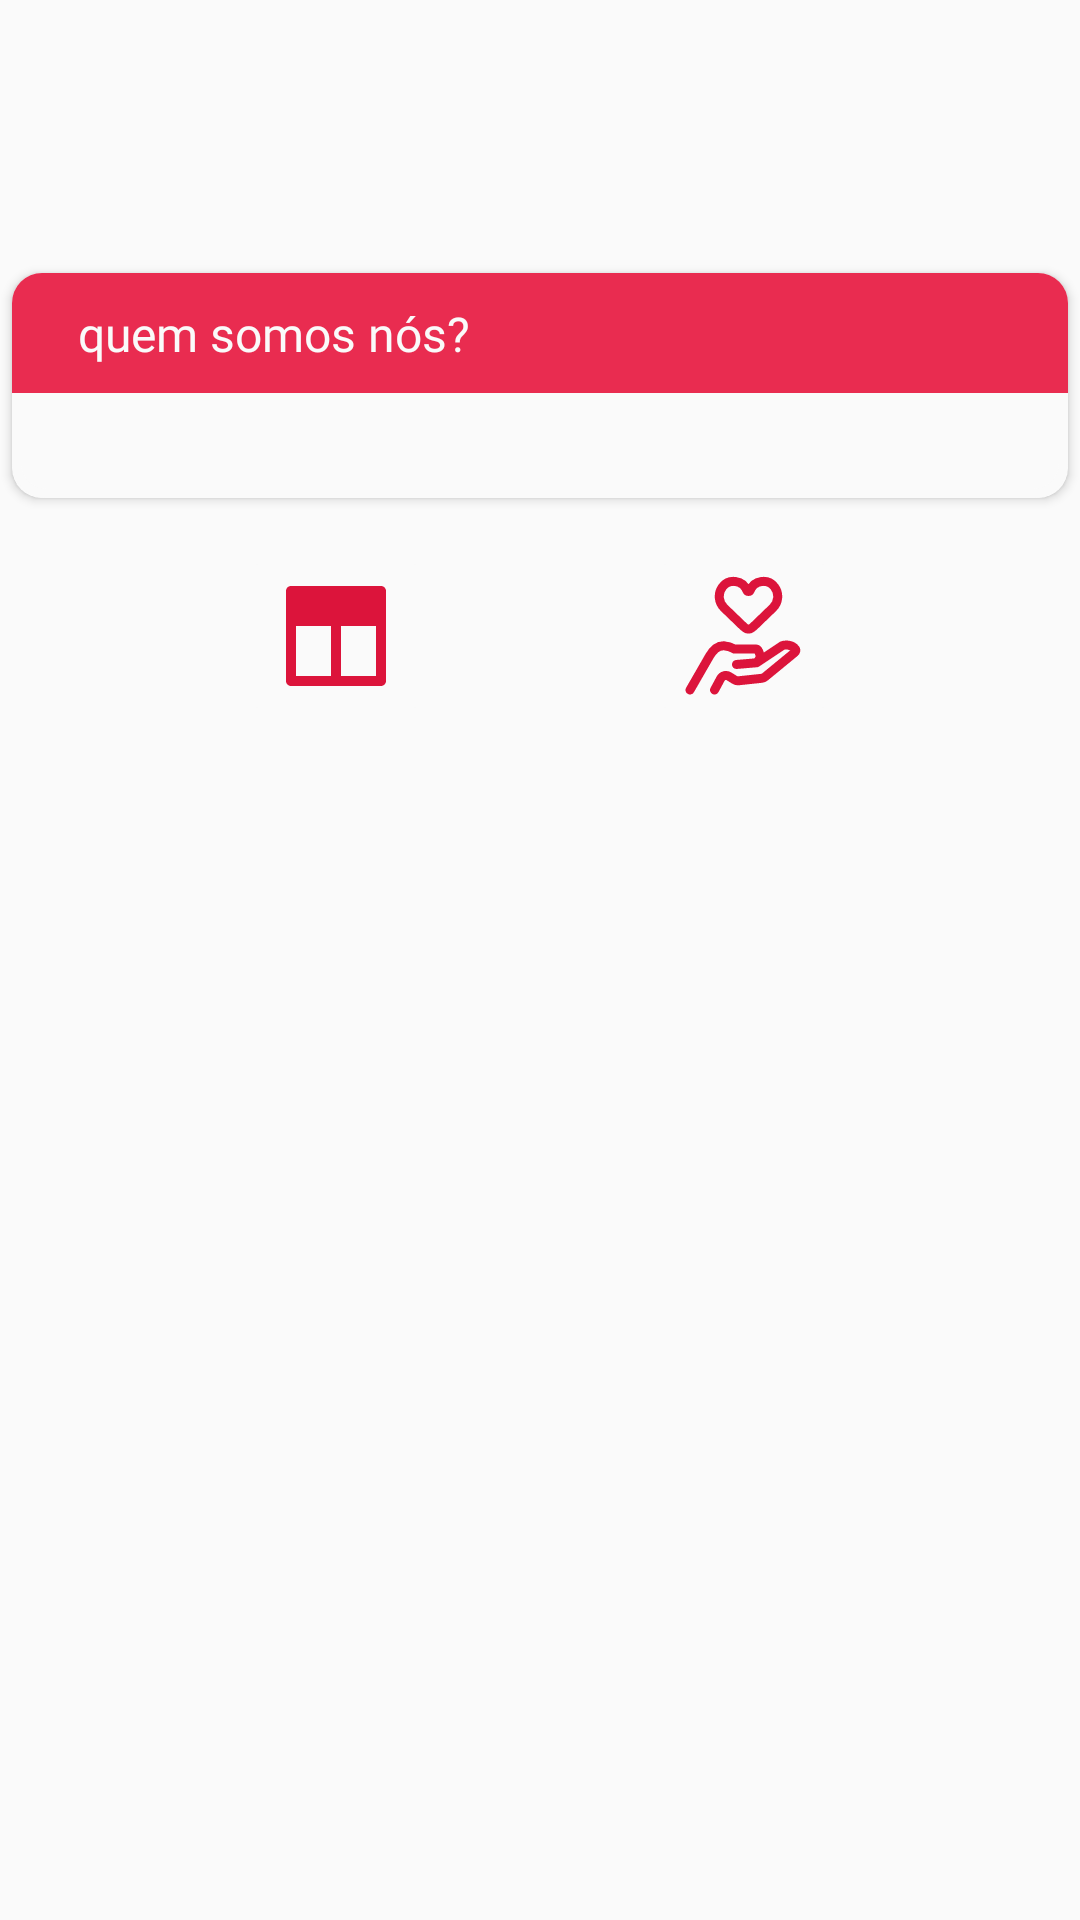

Icon bounding boxes for this 1080×1920 phone screenshot, format (x1, y1, x2, y2):
icampaignn: (685, 576, 801, 695)
ipublicationss: (286, 586, 386, 686)
